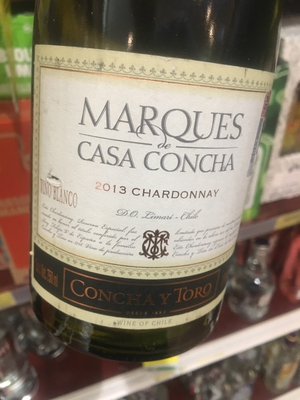marques de casa concha chardonnay: (31, 6, 280, 361)
